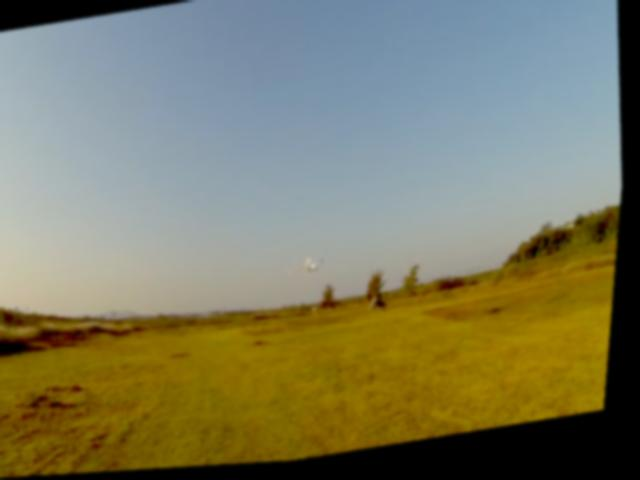uav: (282, 244, 344, 292)
